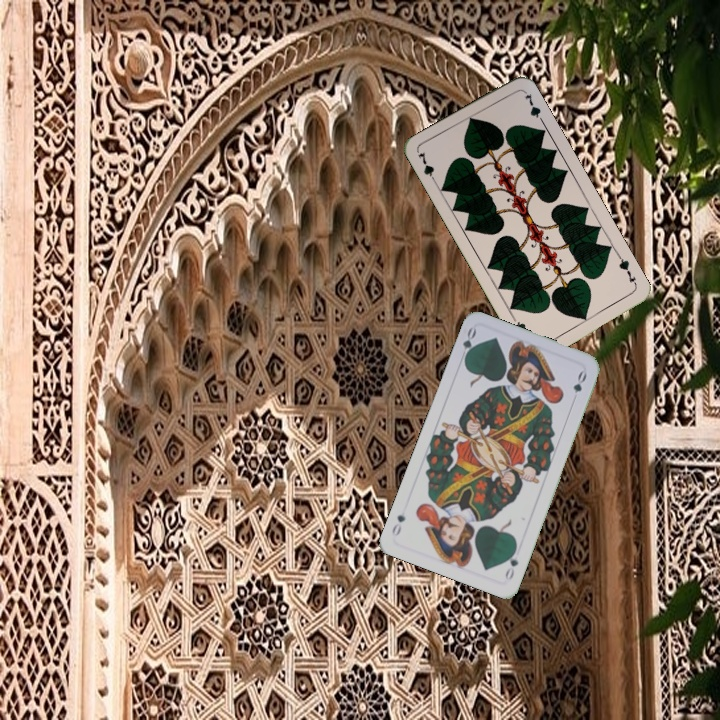G7: (414, 147, 439, 186), (614, 252, 640, 289)
GO: (456, 324, 479, 365), (501, 543, 521, 583)
